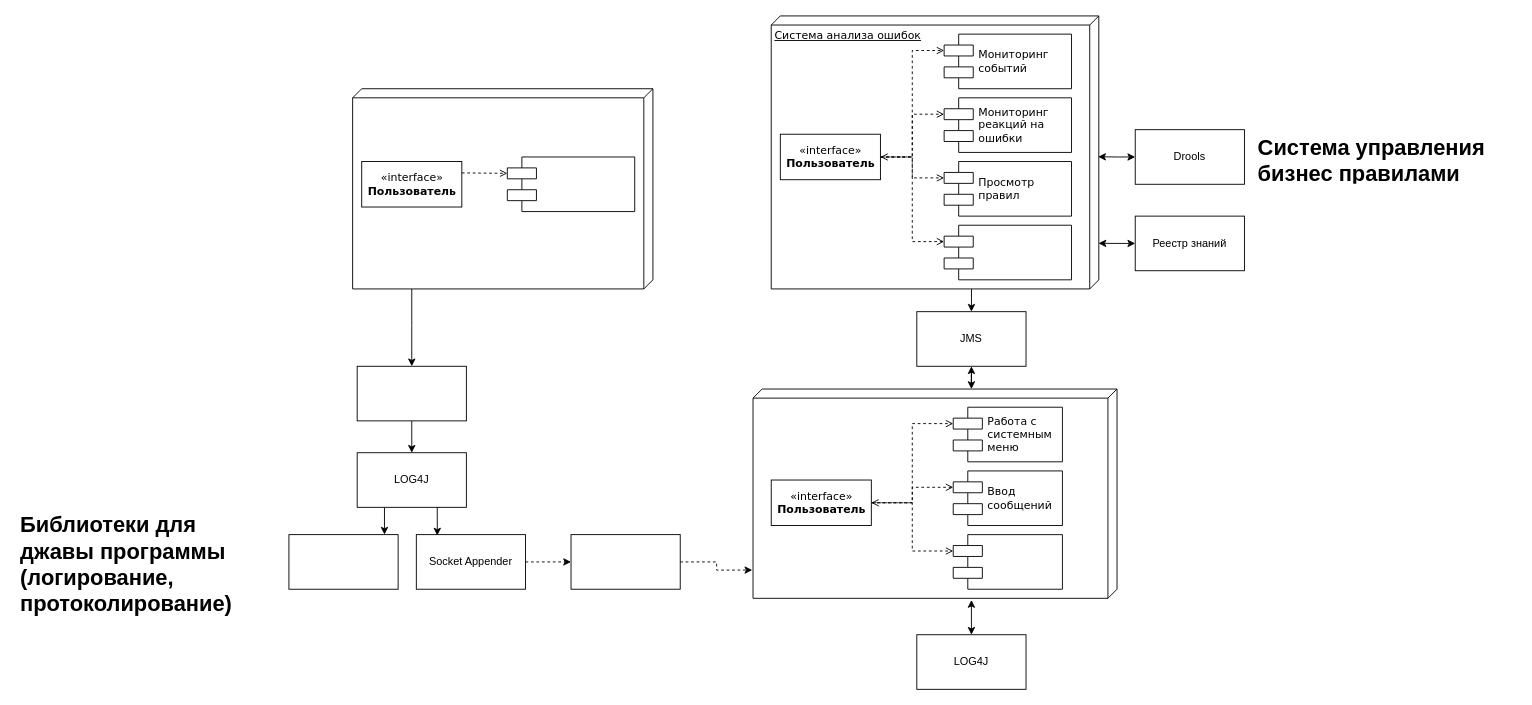
Image size: 1532x705. Some labels were removed from this diagram. Each missing label, with the box of its shape:
Console Appender: (288, 534, 398, 589)
SLF4J: (356, 365, 466, 421)
Socket Server: (570, 534, 680, 589)
Ввод отчета: (952, 534, 1062, 589)
Демонстрация окна приложения: (506, 156, 635, 212)
Приложение пользователя: (352, 88, 653, 289)
Программный агент: (752, 388, 1117, 598)
Редактирование правил: (943, 224, 1072, 280)
